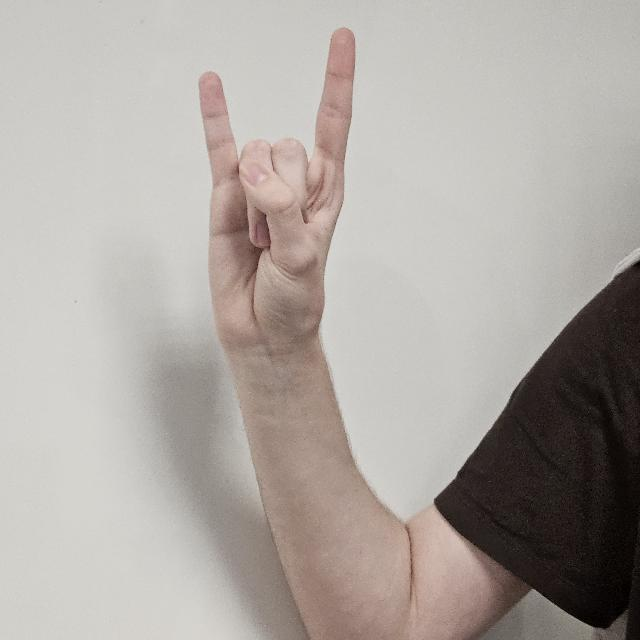L: (196, 26, 358, 362)
